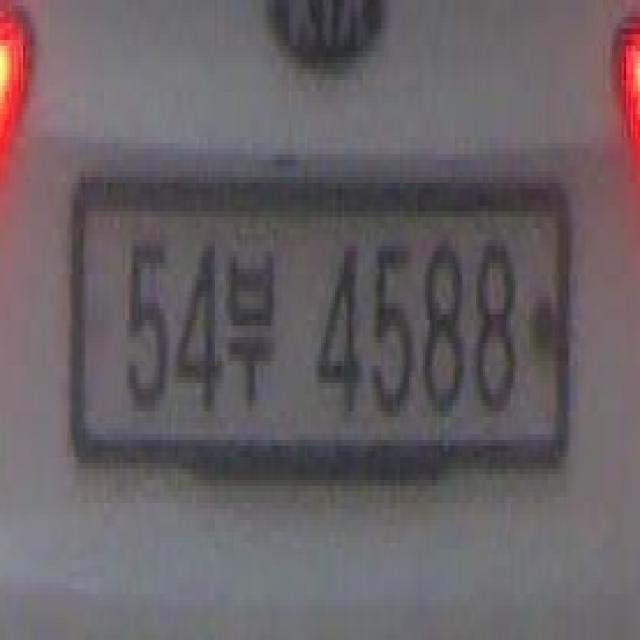4: (305, 217, 365, 417), (176, 228, 222, 423)
5: (113, 188, 173, 446), (372, 223, 418, 434)
8: (469, 235, 527, 434), (418, 217, 469, 434)
bu: (222, 223, 286, 411)
license_plate: (58, 160, 570, 469)
